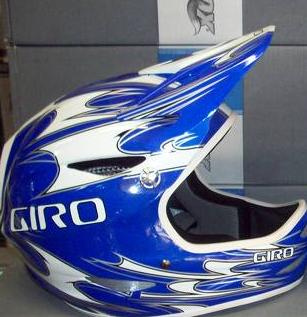helmet: (15, 72, 303, 308)
